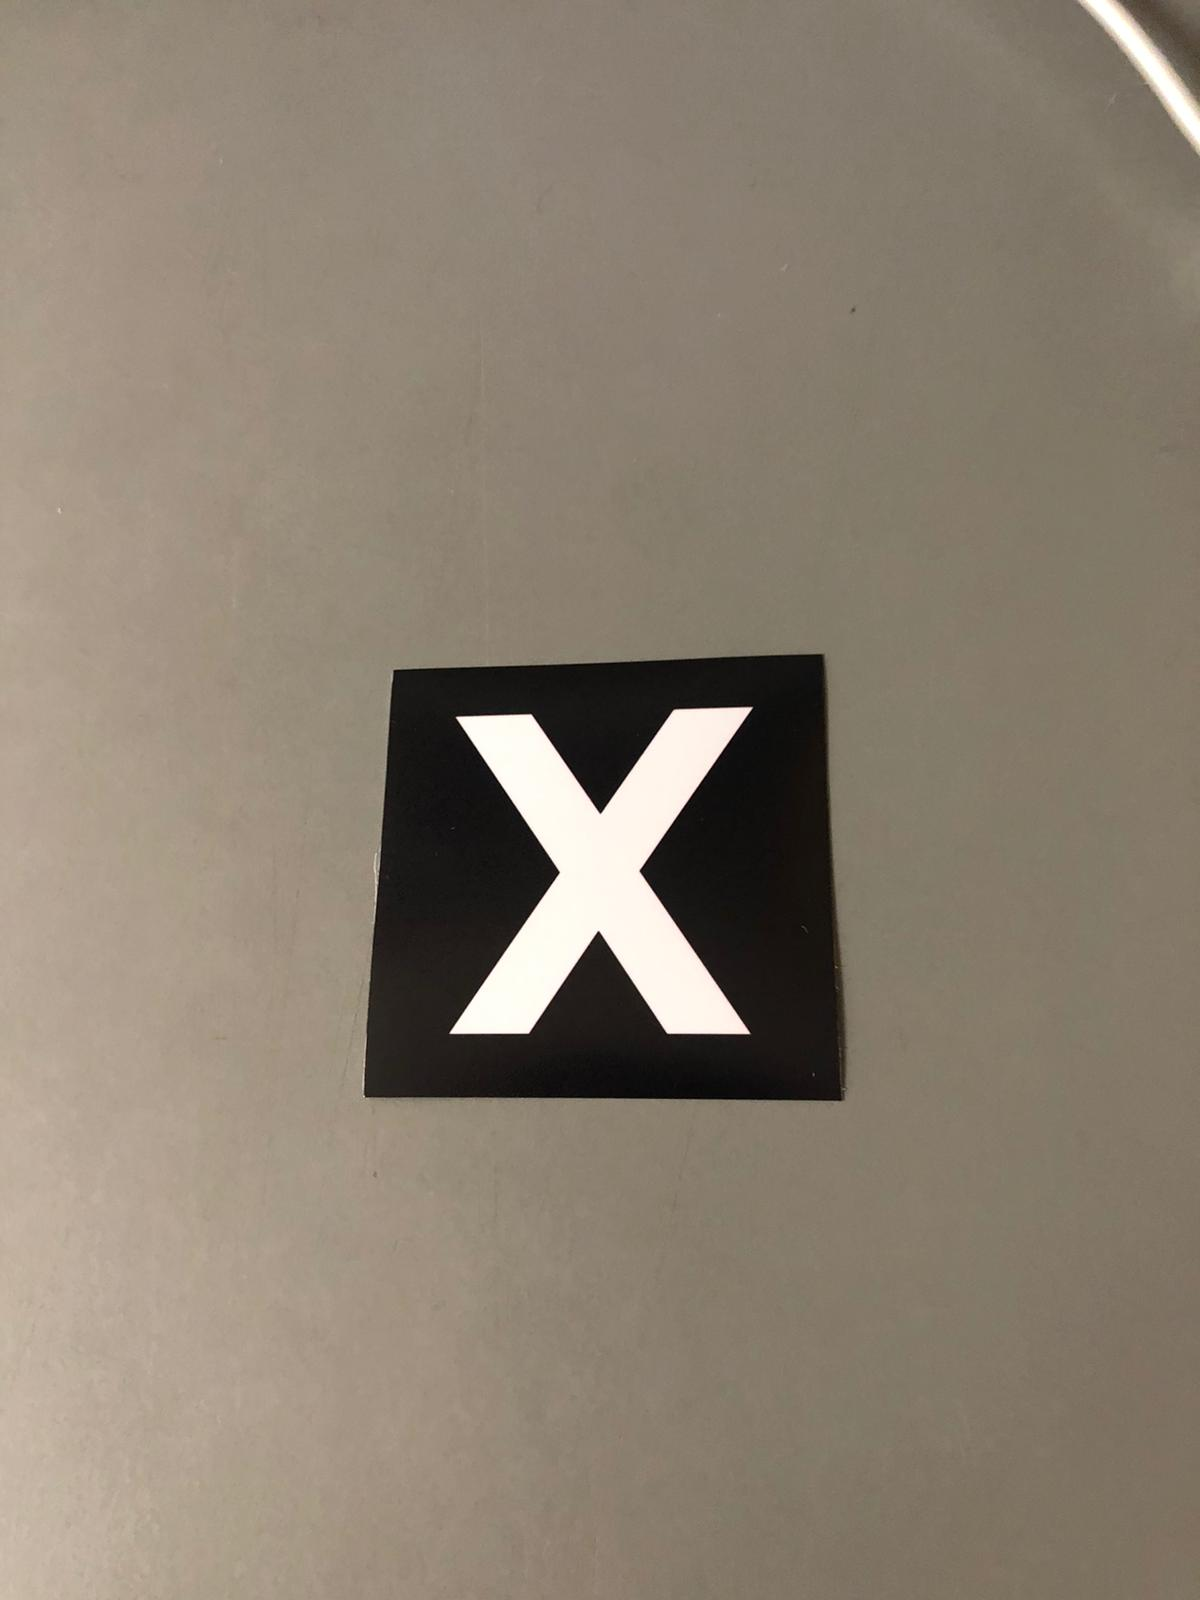X: (389, 687, 803, 1083)
